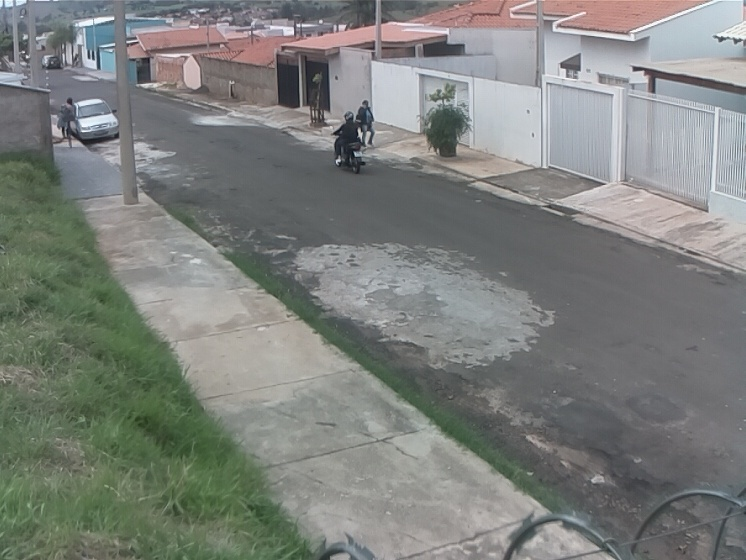person: (334, 111, 358, 166), (356, 98, 377, 149), (55, 96, 78, 138)
